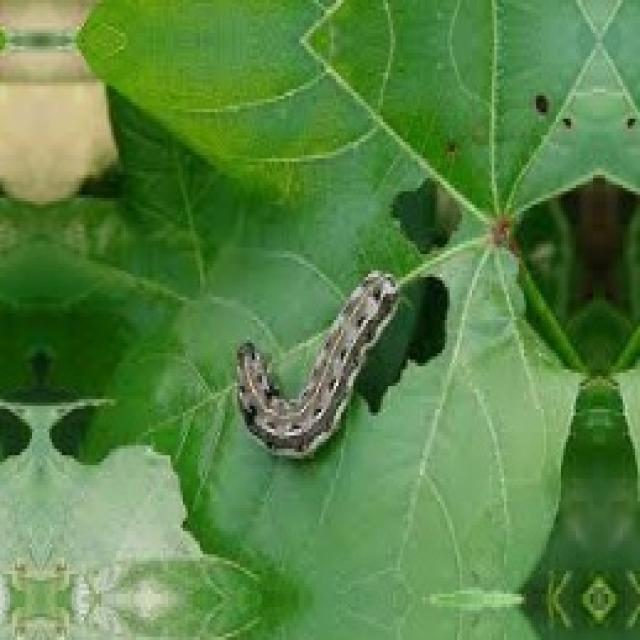armyworm: (232, 267, 400, 459)
